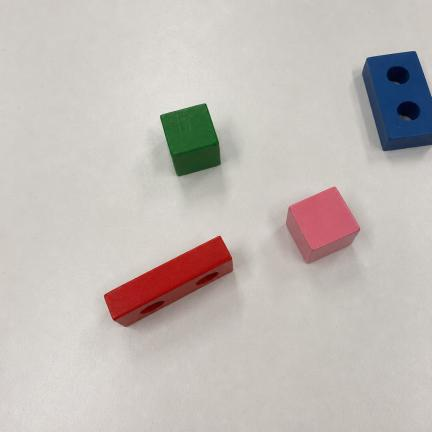BuildingBlocks: (105, 237, 232, 326), (363, 52, 431, 150), (287, 187, 359, 263), (161, 104, 220, 175)
